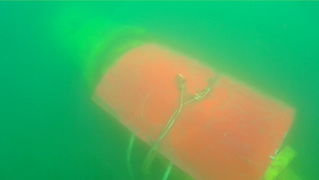4: (68, 14, 91, 34)
leak: (91, 43, 294, 180)
pipe: (43, 1, 149, 91), (262, 141, 305, 180)
